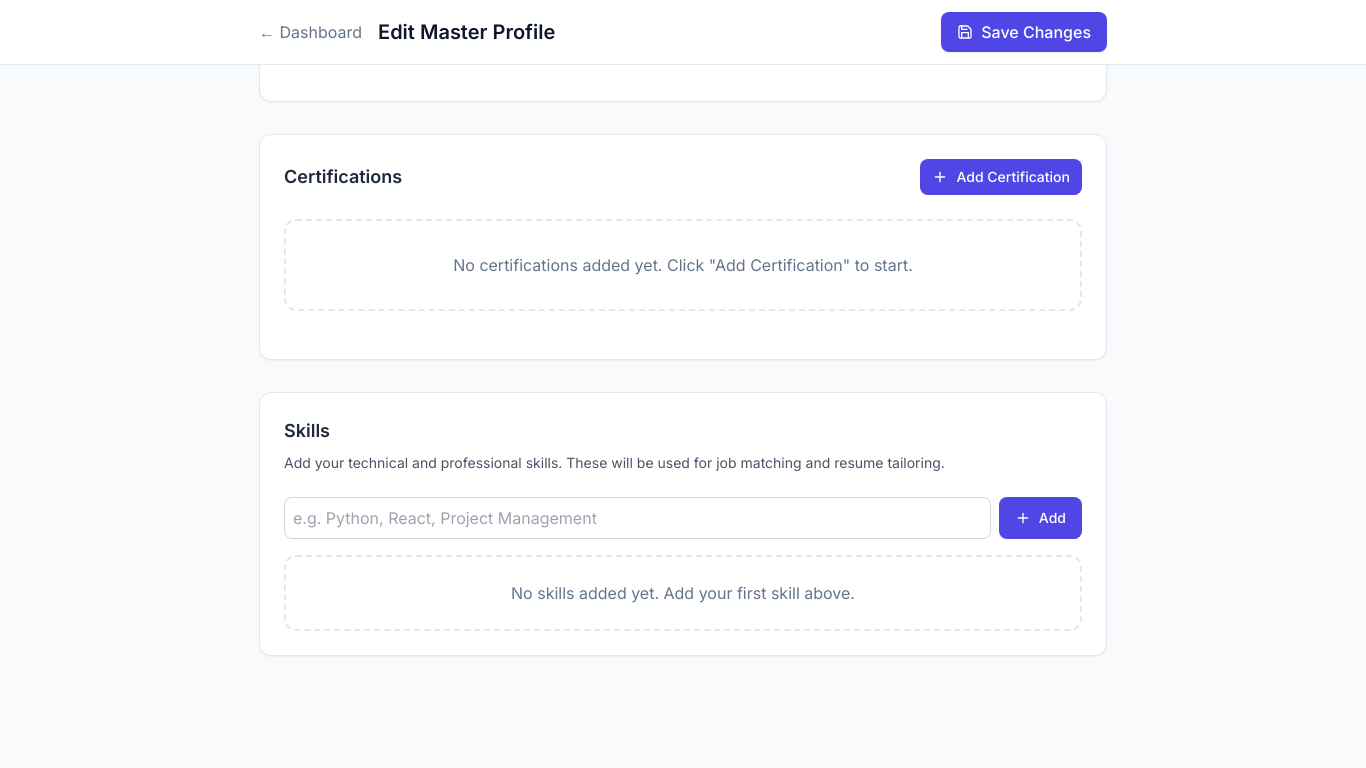
it: MasterProfilePage › allows adding skills
This screenshot has width=1366, height=768.
(page scrolled)
In the field with placeholder "e.g. Python, React, Project Management": [637, 518] box [284, 497, 991, 539], type "Python"
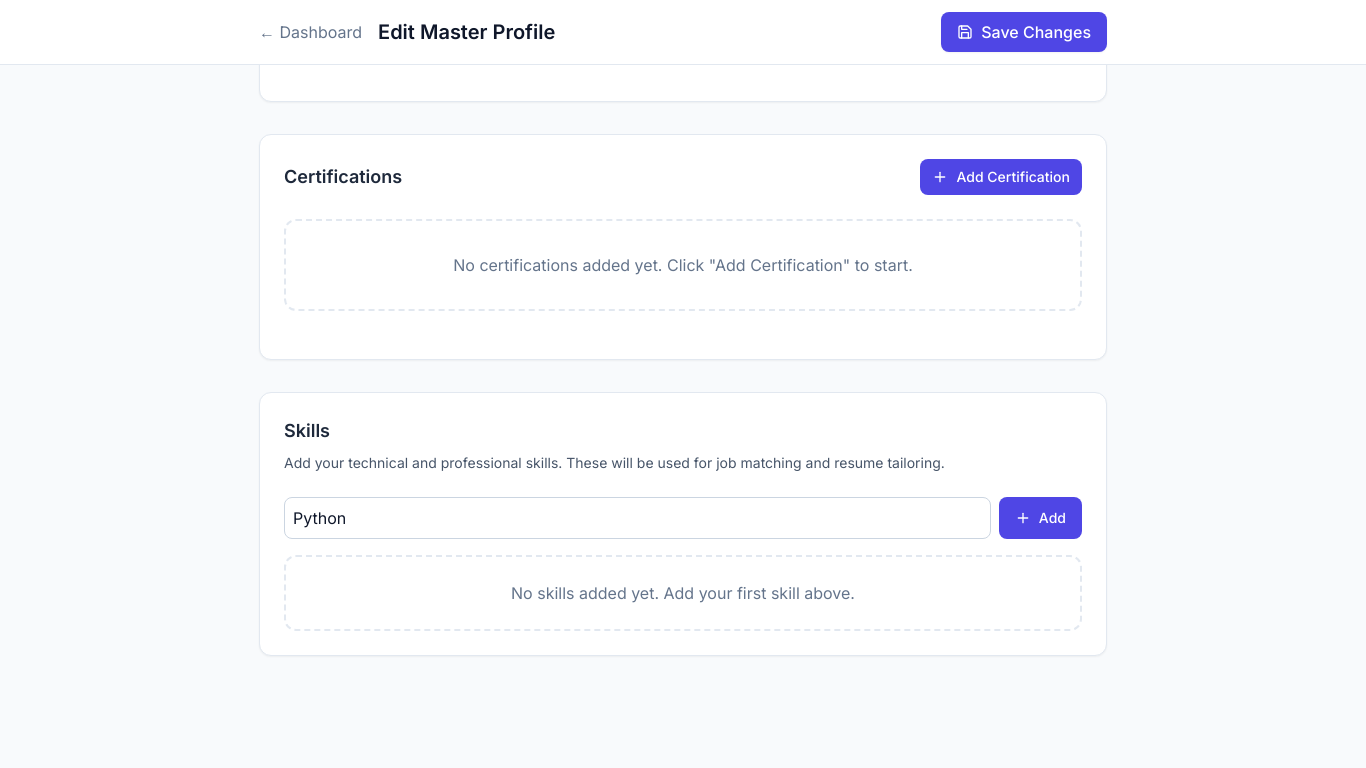
Click the button "Add": [1040, 518] box [999, 497, 1082, 539]
(page scrolled)
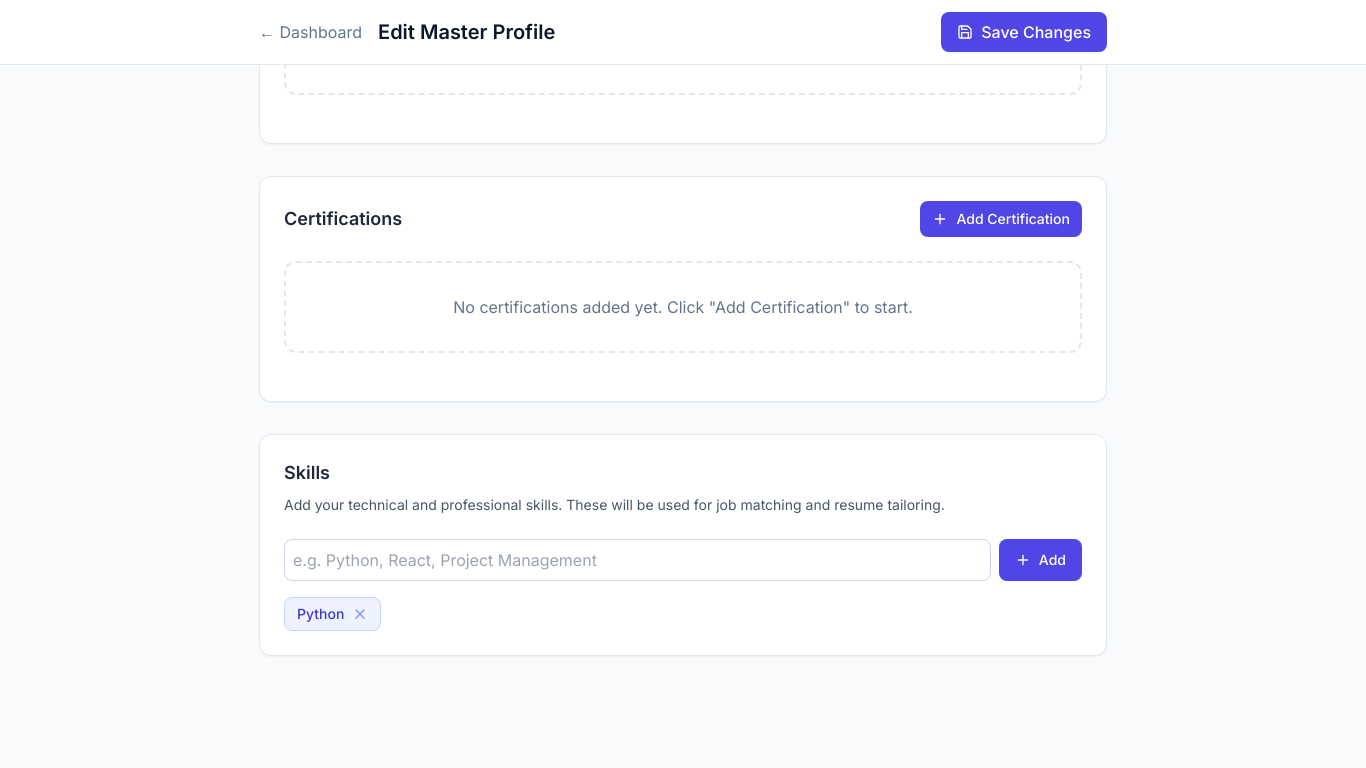
Now the text "Python" is shown, box [297, 604, 344, 624]
